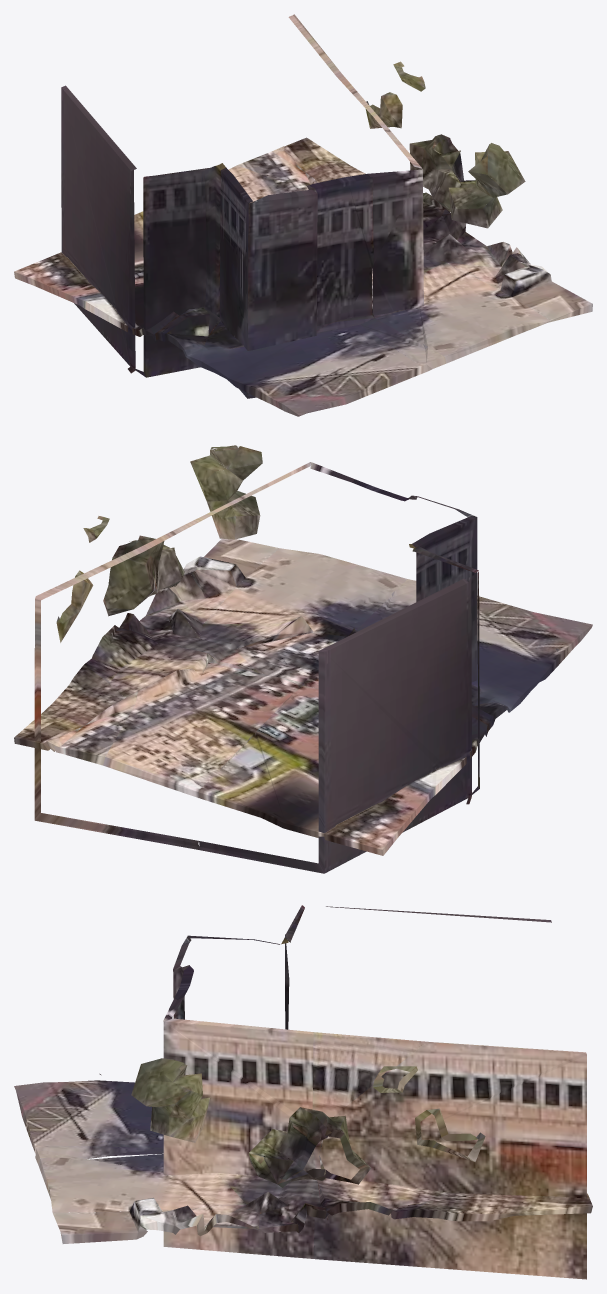
3 views of the same model, one above another, from view 1: azimuth 30°, elevation 25°; view 2: azimuth 150°, elevation 25°; view 3: azimuth 270°, elevation 25° (orthographic). The views are drawn at different scales.
Parts seen in each view (by area): view 1: Mesh_0; view 2: Mesh_0; view 3: Mesh_0.
Part boxes in pixels (box(x1,y1,x2,y2)): Mesh_0: box(14, 14, 592, 416); Mesh_0: box(14, 445, 592, 873); Mesh_0: box(14, 905, 592, 1279).
Bounding box in the file's own units: 33.26 × 18.27 × 41.49.
Materials: 2 (2 with a texture image).
